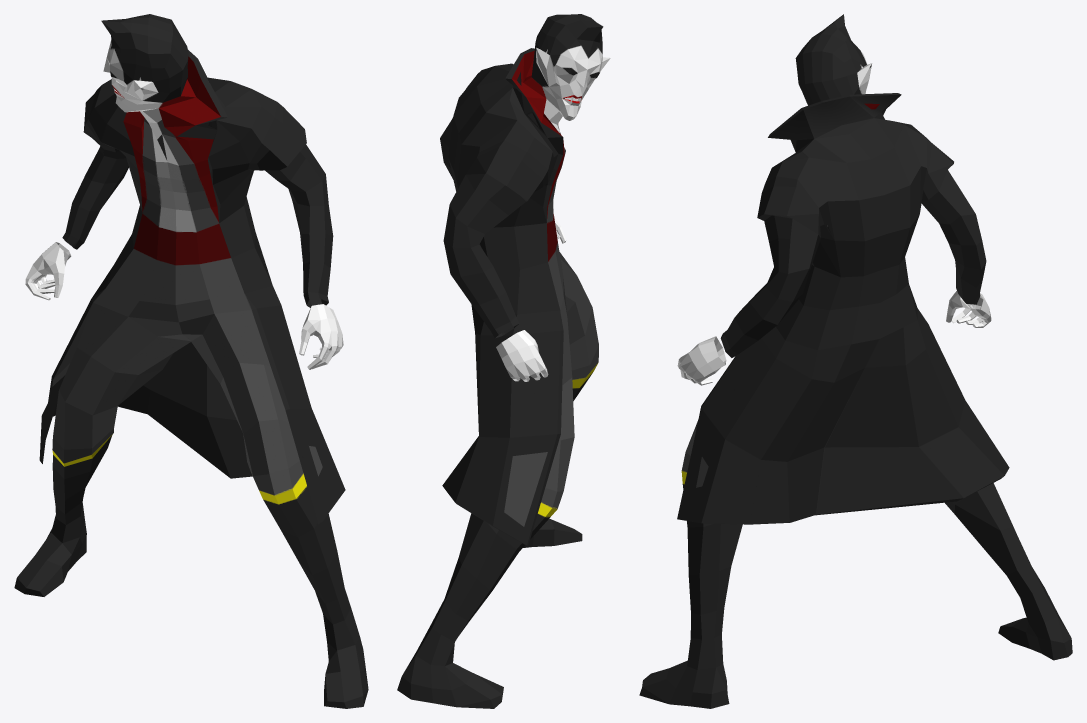
File: VampireIdle(61).obj
The picture shows the model from 3 angles, left to right: view 1: azimuth 30°, elevation 25°; view 2: azimuth 150°, elevation 25°; view 3: azimuth 270°, elevation 25°; orthographic projection. The views are drawn at different scales.
Visible parts, largest first — view 1: Plane002; view 2: Plane002; view 3: Plane002.
Boxes of the visible parts, x1=… form: Plane002: x1=14, y1=14, x2=368, y2=708; Plane002: x1=397, y1=14, x2=610, y2=708; Plane002: x1=639, y1=14, x2=1072, y2=708.
Size of the model in its own units: 100 by 304 by 196.
